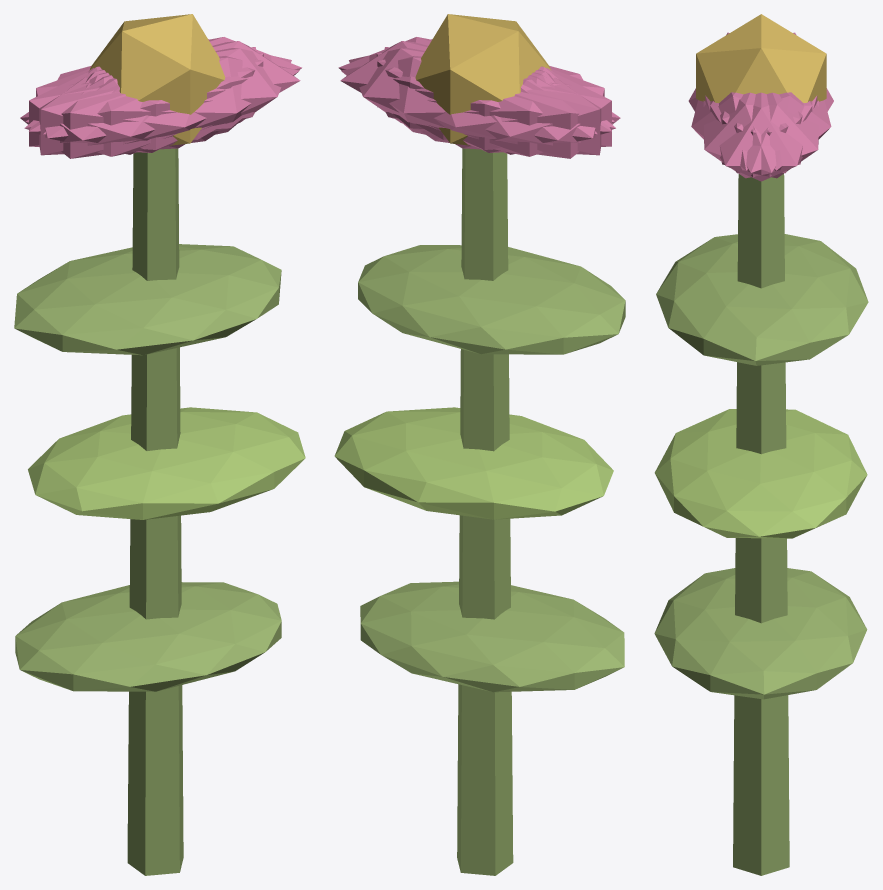
The model's file is pisonia-grandis.glb.
3 views of the same model, side by side, from view 1: azimuth 30°, elevation 25°; view 2: azimuth 150°, elevation 25°; view 3: azimuth 270°, elevation 25° (orthographic).
Visible parts, largest first — view 1: stem, leaf1, leaf2, leaf0, center, petal1, petal6, petal2, petal5, petal7, petal0, petal4 (+2 smaller); view 2: stem, leaf1, leaf2, leaf0, center, petal8, petal3, petal7, petal4, petal2, petal0, petal5 (+2 smaller); view 3: stem, leaf1, leaf2, leaf0, center, petal0, petal5, petal4, petal8, petal1.
Part boxes in pixels (box(x1,y1,x2,y2)): stem: box(127, 148, 183, 875); leaf1: box(28, 407, 305, 519); leaf2: box(14, 244, 281, 355); leaf0: box(15, 582, 281, 691); center: box(89, 14, 225, 145); petal1: box(24, 56, 299, 156); petal6: box(20, 68, 219, 158); petal2: box(39, 47, 255, 155); petal5: box(43, 48, 291, 149); petal7: box(29, 53, 263, 152); petal0: box(89, 41, 300, 140); petal4: box(25, 37, 301, 131); stem: box(457, 148, 513, 875); leaf1: box(334, 407, 613, 519); leaf2: box(358, 245, 625, 354); leaf0: box(360, 581, 624, 692); center: box(415, 14, 550, 145); petal8: box(341, 56, 615, 156); petal3: box(421, 68, 620, 158); petal7: box(384, 47, 601, 155); petal4: box(349, 48, 597, 149); petal2: box(376, 53, 611, 152); petal0: box(340, 41, 551, 140); petal5: box(338, 37, 614, 131); stem: box(733, 174, 789, 875); leaf1: box(654, 409, 867, 538); leaf2: box(656, 234, 868, 365); leaf0: box(654, 568, 867, 699); center: box(696, 14, 826, 103); petal0: box(705, 92, 817, 181); petal5: box(703, 92, 812, 178); petal4: box(710, 92, 818, 178); petal8: box(720, 92, 831, 170); petal1: box(691, 92, 802, 170).
Bounding box in the file's own units: 0.1498 × 0.4311 × 0.1005.
